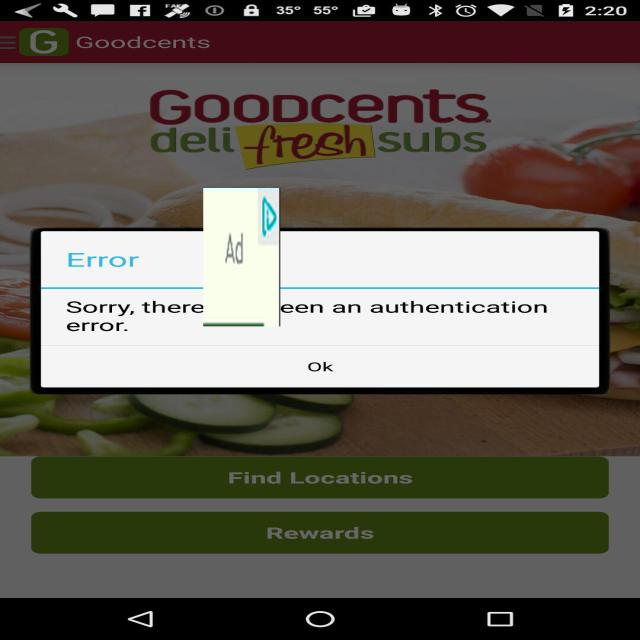sneaking: (203, 188, 280, 326)
